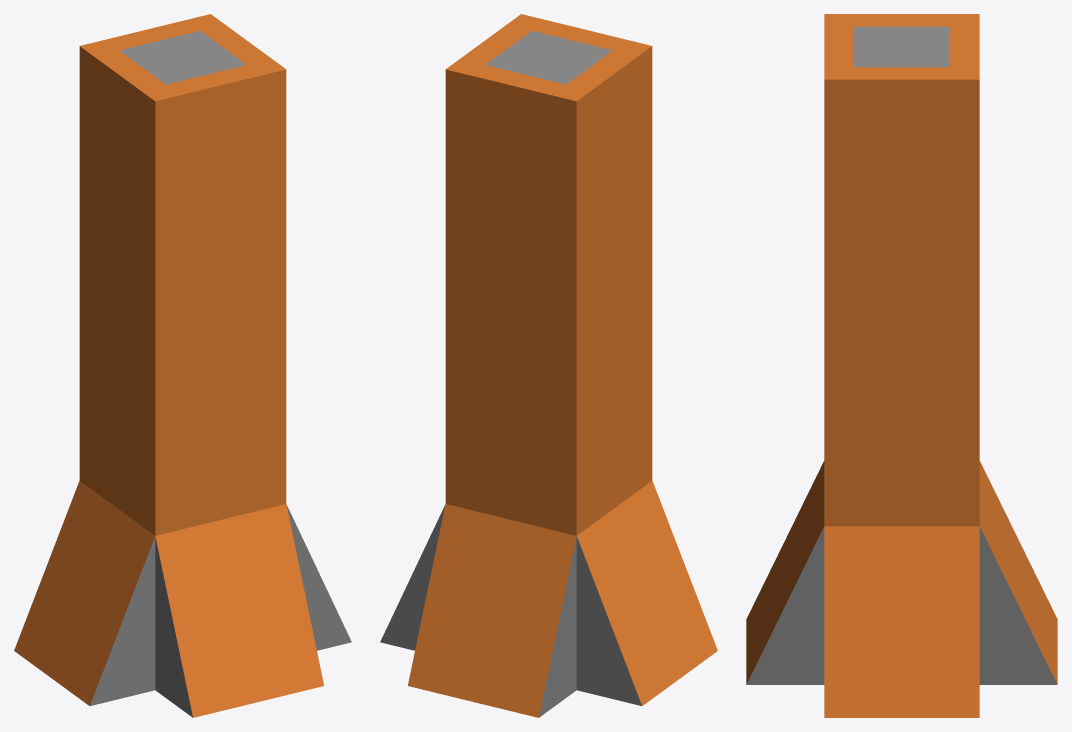
File: SciFiSupportPiller.glb
The picture shows the model from 3 angles, left to right: view 1: azimuth 30°, elevation 25°; view 2: azimuth 150°, elevation 25°; view 3: azimuth 270°, elevation 25°; orthographic projection. The views are drawn at different scales.
Parts seen in each view (by area): view 1: Cube; view 2: Cube; view 3: Cube.
Part boxes in pixels (x1,y1,x2,y2): Cube: (14, 14, 351, 717); Cube: (380, 14, 717, 717); Cube: (746, 14, 1057, 717).
Size of the model in its own units: 1.92 by 4.12 by 1.92.
